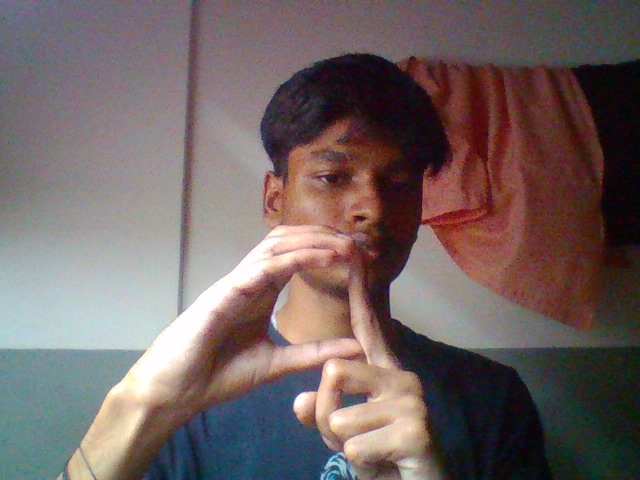D: (80, 200, 476, 455)
